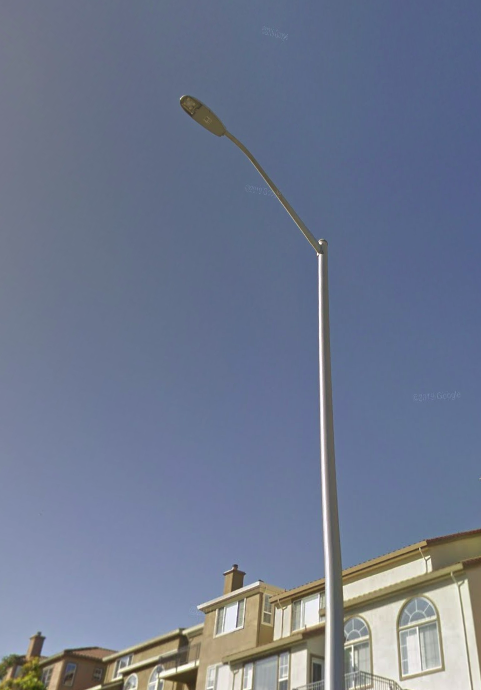pole: (170, 89, 354, 551)
